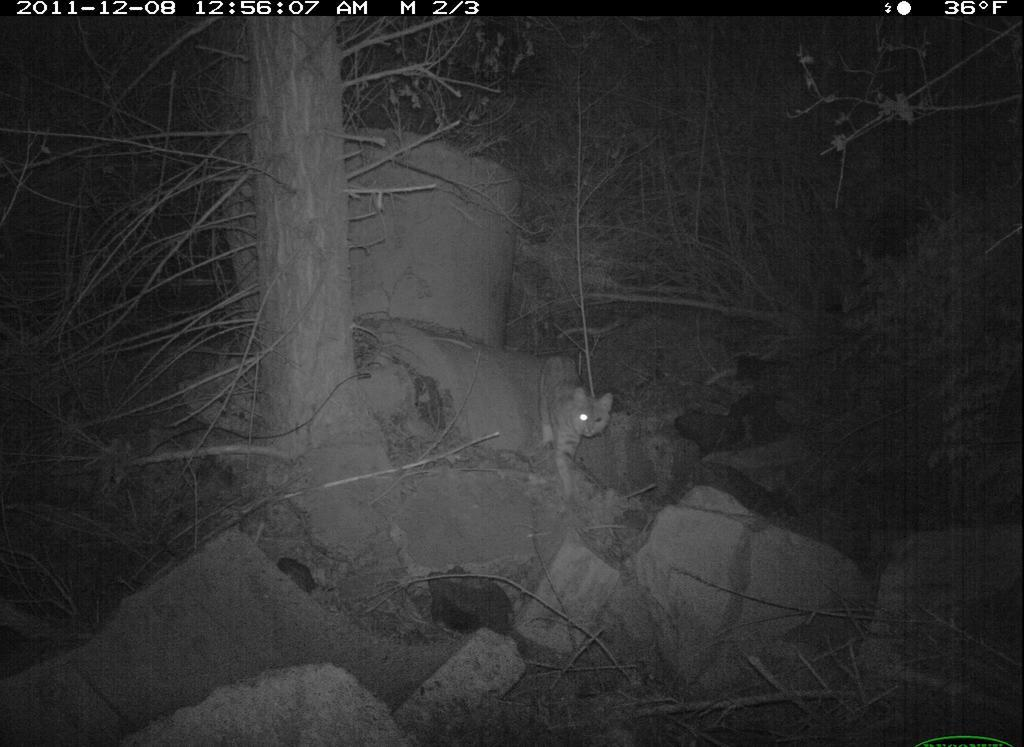bobcat: (531, 332, 612, 511)
